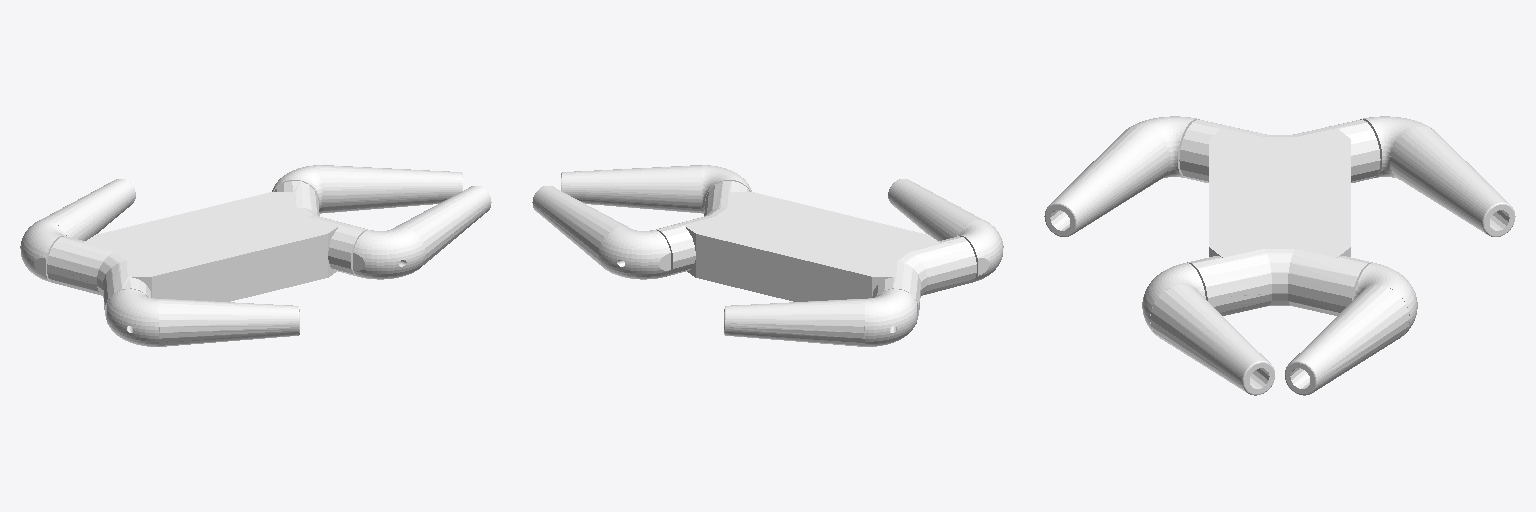
URDF robot description (28_degree):
<?xml version="1.0" encoding="utf-8"?>
<!-- This URDF was automatically created by SolidWorks to URDF Exporter! Originally created by [author] ([email redacted]) 
     Commit Version: 1.5.1-0-g916b5db  Build Version: 1.5.7152.31018
     For more information, please see http://wiki.ros.org/sw_urdf_exporter -->
<robot
  name="28_degree">
  <link
    name="base_link">
    <inertial>
      <origin
        xyz="-5.5511E-17 8.4274E-08 -3.4694E-18"
        rpy="0 0 0" />
      <mass
        value="2.803" />
      <inertia
        ixx="0.009261019"
        ixy="6.9482E-19"
        ixz="-8.8712E-09"
        iyy="0.046401791"
        iyz="2.0391E-18"
        izz="0.053278873" />
    </inertial>
    <visual>
      <origin
        xyz="0 0 0"
        rpy="0 0 0" />
      <geometry>
        <mesh
          filename="package://28_degree/meshes/base_link.STL" />
      </geometry>
      <material
        name="">
        <color
          rgba="1 1 1 1" />
      </material>
    </visual>
    <collision>
      <origin
        xyz="0 0 0"
        rpy="0 0 0" />
      <geometry>
        <mesh
          filename="package://28_degree/meshes/base_link.STL" />
      </geometry>
    </collision>
  </link>
  <link
    name="left_fromt_link">
    <inertial>
      <origin
        xyz="-8.271E-08 0.083439 0.0029644"
        rpy="0 0 0" />
      <mass
        value="0.0979" />
      <inertia
        ixx="0.000455194"
        ixy="-1.3029E-10"
        ixz="1.0433E-09"
        iyy="0.00118396"
        iyz="-0.000150105"
        izz="0.000387144" />
    </inertial>
    <visual>
      <origin
        xyz="0 0 0"
        rpy="0 0 0" />
      <geometry>
        <mesh
          filename="package://28_degree/meshes/left_fromt_link.STL" />
      </geometry>
      <material
        name="">
        <color
          rgba="1 1 1 1" />
      </material>
    </visual>
    <collision>
      <origin
        xyz="0 0 0"
        rpy="0 0 0" />
      <geometry>
        <mesh
          filename="package://28_degree/meshes/left_fromt_link.STL" />
      </geometry>
    </collision>
  </link>
  <joint
    name="left_front_leg"
    type="continuous">
    <origin
      xyz="0.17836 0.090944 0"
      rpy="1.5708 1.5708 0" />
    <parent
      link="base_link" />
    <child
      link="left_fromt_link" />
    <axis
      xyz="0 0.46947 -0.88295" />
    <limit
      effort="5"
      velocity="487" />
  </joint>
  <link
    name="right_front_link">
    <inertial>
      <origin
        xyz="8.271E-08 0.083439 -0.0029644"
        rpy="0 0 0" />
      <mass
        value="0.0979" />
      <inertia
        ixx="0.000455194"
        ixy="1.3029E-10"
        ixz="1.0433E-09"
        iyy="0.000118396"
        iyz="0.000150105"
        izz="0.000387144" />
    </inertial>
    <visual>
      <origin
        xyz="0 0 0"
        rpy="0 0 0" />
      <geometry>
        <mesh
          filename="package://28_degree/meshes/right_front_link.STL" />
      </geometry>
      <material
        name="">
        <color
          rgba="1 1 1 1" />
      </material>
    </visual>
    <collision>
      <origin
        xyz="0 0 0"
        rpy="0 0 0" />
      <geometry>
        <mesh
          filename="package://28_degree/meshes/right_front_link.STL" />
      </geometry>
    </collision>
  </link>
  <joint
    name="right_front_leg"
    type="continuous">
    <origin
      xyz="0.17836 -0.090944 0"
      rpy="1.5708 1.5708 0" />
    <parent
      link="base_link" />
    <child
      link="right_front_link" />
    <axis
      xyz="0 0.46947 0.88295" />
    <limit
      effort="5"
      velocity="487" />
  </joint>
  <link
    name="right_back_link">
    <inertial>
      <origin
        xyz="6.9889E-08 0.075064 0.036555"
        rpy="0 0 0" />
      <mass
        value="0.0979" />
      <inertia
        ixx="0.0004551194"
        ixy="-5.8323E-10"
        ixz="-1.4902E-11"
        iyy="0.000053186"
        iyz="-0.000027646"
        izz="0.000452354" />
    </inertial>
    <visual>
      <origin
        xyz="0 0 0"
        rpy="0 0 0" />
      <geometry>
        <mesh
          filename="package://28_degree/meshes/right_back_link.STL" />
      </geometry>
      <material
        name="">
        <color
          rgba="1 1 1 1" />
      </material>
    </visual>
    <collision>
      <origin
        xyz="0 0 0"
        rpy="0 0 0" />
      <geometry>
        <mesh
          filename="package://28_degree/meshes/right_back_link.STL" />
      </geometry>
    </collision>
  </link>
  <joint
    name="right_back_leg"
    type="continuous">
    <origin
      xyz="-0.17836 -0.090944 0"
      rpy="2.0595 1.5708 0" />
    <parent
      link="base_link" />
    <child
      link="right_back_link" />
    <axis
      xyz="0 0 1" />
    <limit
      effort="5"
      velocity="487" />
  </joint>
  <link
    name="left_back_link">
    <inertial>
      <origin
        xyz="-6.9889E-08 0.049116 -0.067516"
        rpy="0 0 0" />
      <mass
        value="0.0979" />
      <inertia
        ixx="0.000455194"
        ixy="5.0797E-10"
        ixz="-2.8697E-10"
        iyy="0.000163933"
        iyz="0.000180820"
        izz="0.000341607" />
    </inertial>
    <visual>
      <origin
        xyz="0 0 0"
        rpy="0 0 0" />
      <geometry>
        <mesh
          filename="package://28_degree/meshes/left_back_link.STL" />
      </geometry>
      <material
        name="">
        <color
          rgba="1 1 1 1" />
      </material>
    </visual>
    <collision>
      <origin
        xyz="0 0 0"
        rpy="0 0 0" />
      <geometry>
        <mesh
          filename="package://28_degree/meshes/left_back_link.STL" />
      </geometry>
    </collision>
  </link>
  <joint
    name="left_back_leg"
    type="continuous">
    <origin
      xyz="-0.17836 0.090944 0"
      rpy="1.5708 1.5708 0" />
    <parent
      link="base_link" />
    <child
      link="left_back_link" />
    <axis
      xyz="0 -0.46947 -0.88295" />
    <limit
      effort="5"
      velocity="487" />
  </joint>
</robot>

--- Facts derived from the render (not from the file) ---
Views: 3 orthographic renders of the robot side by side, from view 1: azimuth 30°, elevation 25°; view 2: azimuth 150°, elevation 25°; view 3: azimuth 270°, elevation 25°.
Robot: 28_degree — 5 links, 4 joints (4 continuous); root link base_link; default pose: all joints at 0.
Links seen in each view (by area): view 1: base_link, right_back_link, right_front_link, left_fromt_link, left_back_link; view 2: base_link, left_back_link, left_fromt_link, right_front_link, right_back_link; view 3: base_link, right_back_link, left_back_link, left_fromt_link, right_front_link.
Link boxes in pixels (left/top/right/bottom): base_link: left=47, top=181, right=367, bottom=315; right_back_link: left=106, top=289, right=299, bottom=346; right_front_link: left=353, top=186, right=491, bottom=279; left_fromt_link: left=272, top=165, right=462, bottom=213; left_back_link: left=20, top=179, right=135, bottom=282; base_link: left=656, top=181, right=976, bottom=315; left_back_link: left=724, top=289, right=917, bottom=346; left_fromt_link: left=532, top=186, right=670, bottom=279; right_front_link: left=561, top=165, right=751, bottom=213; right_back_link: left=888, top=179, right=1003, bottom=282; base_link: left=1179, top=119, right=1380, bottom=315; right_back_link: left=1044, top=116, right=1199, bottom=236; left_back_link: left=1360, top=116, right=1515, bottom=236; left_fromt_link: left=1285, top=263, right=1417, bottom=395; right_front_link: left=1142, top=263, right=1274, bottom=395.
Bounding box of the posed robot: 0.6189 × 0.4961 × 0.064 m (x, y, z).
5 mesh visuals loaded from 5 distinct referenced files (5 binary STL).